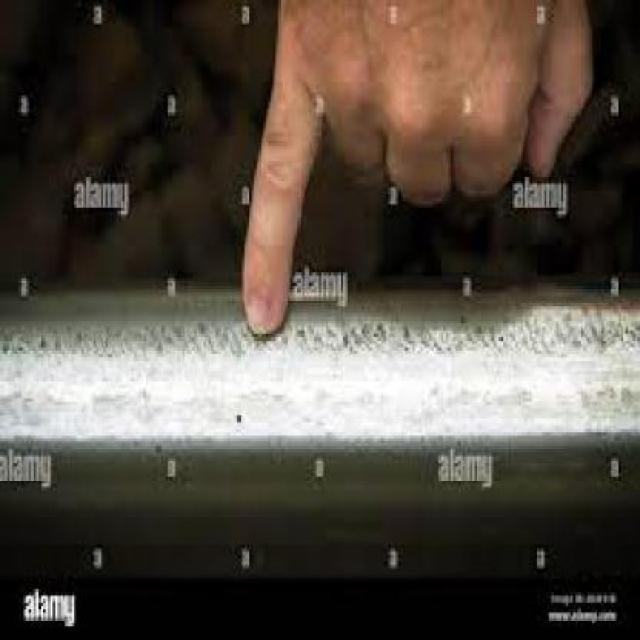non-defective: (1, 251, 640, 640)
